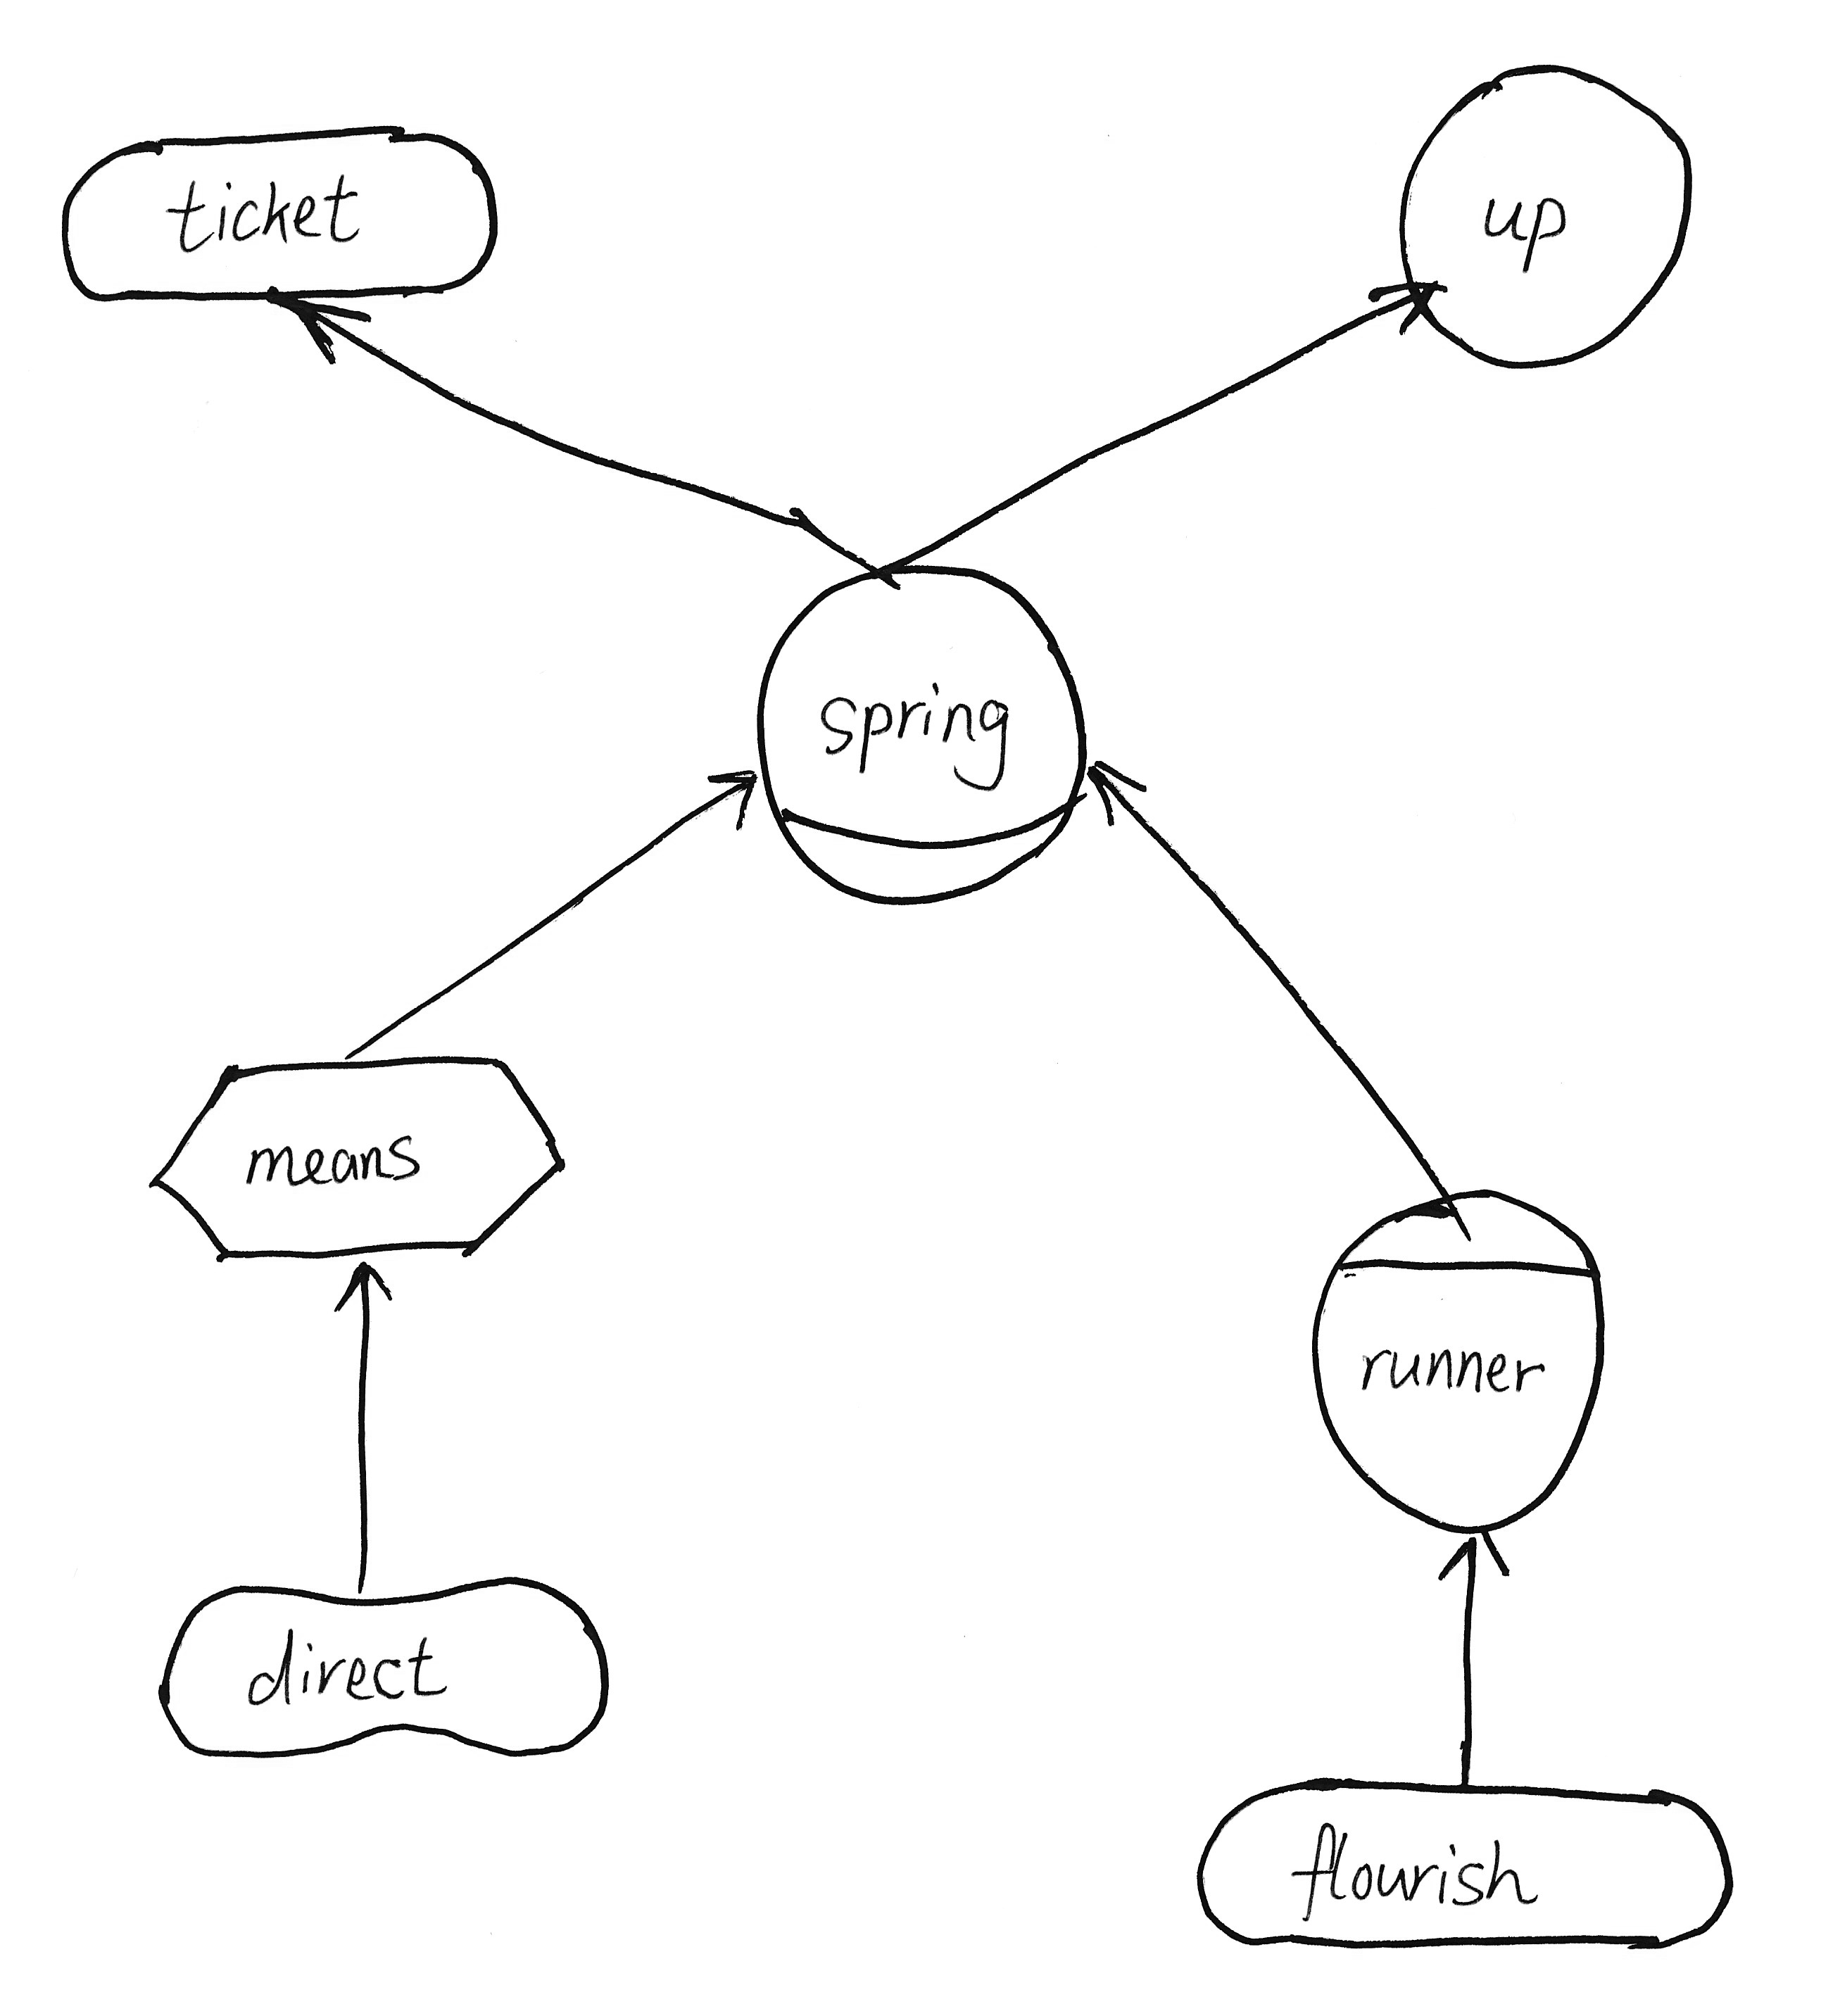actor: (1384, 42, 1710, 385)
agent: (1296, 1177, 1623, 1544)
arrow: (256, 286, 385, 390), (1076, 732, 1161, 836), (690, 746, 764, 848), (1424, 1524, 1519, 1600), (1359, 276, 1450, 351), (320, 1254, 407, 1322)
goal: (1182, 1758, 1747, 1963), (40, 109, 509, 320)
quality: (144, 1566, 622, 1781)
role: (743, 555, 1101, 927)
task: (132, 1043, 578, 1282)
